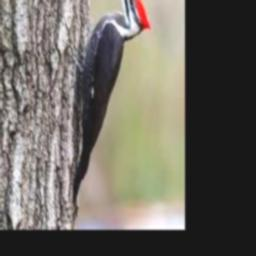Woodpecker: (69, 0, 152, 215)
